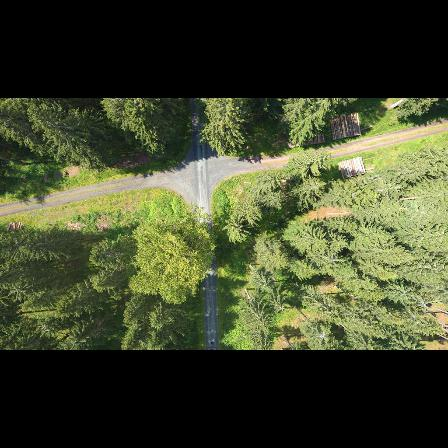Sick: (270, 299, 295, 319), (310, 327, 334, 347)
